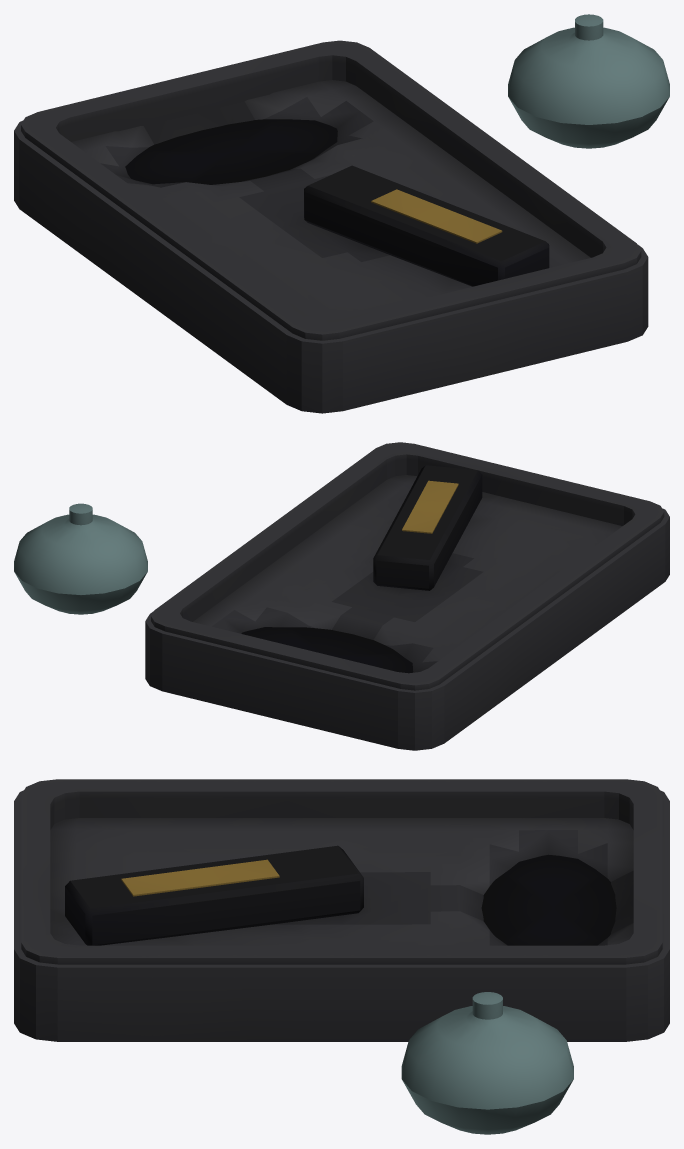
The model's file is inkstone.glb.
3 renders of one model, top to bottom at view 1: azimuth 30°, elevation 25°; view 2: azimuth 150°, elevation 25°; view 3: azimuth 270°, elevation 25°, orthographic. The views are drawn at different scales.
Parts seen in each view (by area): view 1: base; view 2: base; view 3: base.
Part boxes in pixels (x1,y1,x2,y2): base: (14, 14, 669, 413); base: (14, 442, 669, 750); base: (14, 779, 669, 1134).
Bounding box in the file's own units: 0.194 × 0.0368 × 0.18.
